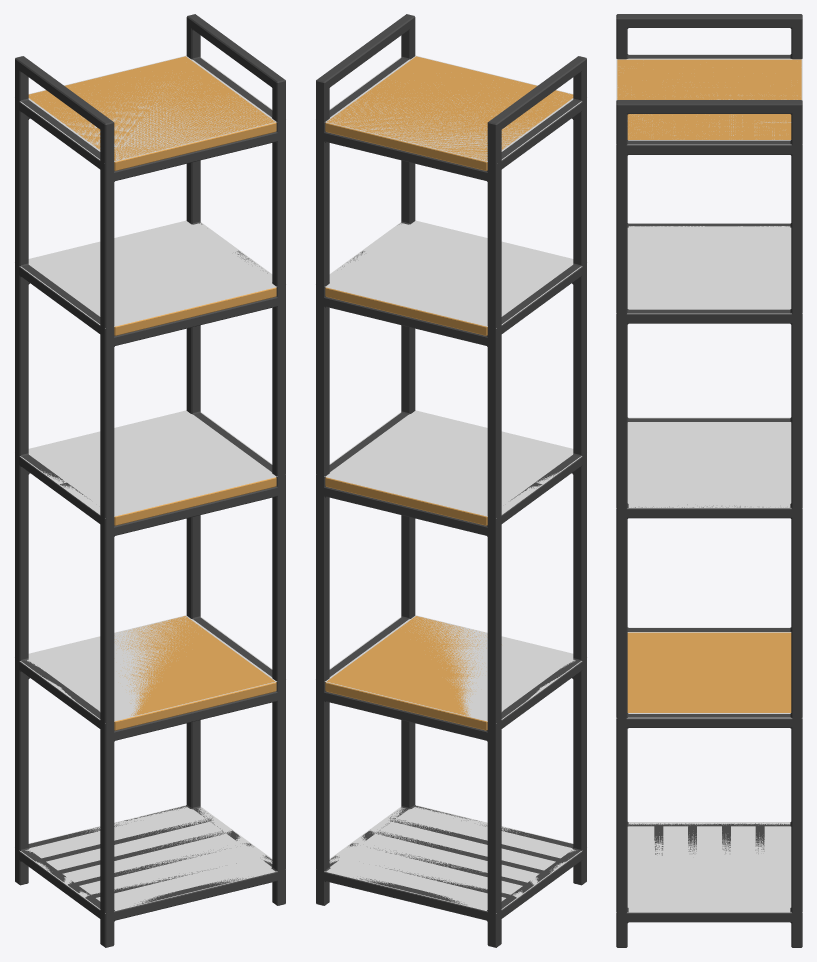
The model's file is iron-frame-shelf-v.glb.
3 renders of one model, left to right at view 1: azimuth 30°, elevation 25°; view 2: azimuth 150°, elevation 25°; view 3: azimuth 270°, elevation 25°, orthographic. The views are drawn at different scales.
Visible parts, largest first — view 1: Frame, Board.004, __TOP__Plane.002, __TOP__Plane.001, __TOP__Plane.004, Board, __TOP__Plane, __TOP__Plane.003, Board.002, Board.003; view 2: Frame, Board.004, __TOP__Plane.002, __TOP__Plane.001, __TOP__Plane.004, Board, __TOP__Plane, __TOP__Plane.003, Board.002, Board.003; view 3: Frame, __TOP__Plane.001, __TOP__Plane.004, __TOP__Plane.002, Board, Board.004, __TOP__Plane.003, __TOP__Plane.
Boxes of the visible parts, bbox=[...] form: Frame: bbox=[15, 14, 285, 947]; Board.004: bbox=[28, 56, 276, 170]; __TOP__Plane.002: bbox=[14, 220, 286, 328]; __TOP__Plane.001: bbox=[20, 410, 277, 518]; __TOP__Plane.004: bbox=[14, 805, 286, 913]; Board: bbox=[114, 616, 276, 730]; __TOP__Plane: bbox=[14, 615, 286, 723]; __TOP__Plane.003: bbox=[14, 55, 286, 161]; Board.002: bbox=[114, 477, 276, 525]; Board.003: bbox=[114, 287, 276, 335]; Frame: bbox=[316, 14, 586, 947]; Board.004: bbox=[325, 56, 573, 170]; __TOP__Plane.002: bbox=[315, 220, 587, 328]; __TOP__Plane.001: bbox=[324, 410, 581, 518]; __TOP__Plane.004: bbox=[315, 805, 587, 913]; Board: bbox=[325, 616, 487, 730]; __TOP__Plane: bbox=[315, 615, 587, 723]; __TOP__Plane.003: bbox=[315, 55, 587, 161]; Board.002: bbox=[325, 477, 487, 525]; Board.003: bbox=[325, 287, 487, 335]; Frame: bbox=[616, 14, 802, 947]; __TOP__Plane.001: bbox=[616, 417, 802, 508]; __TOP__Plane.004: bbox=[616, 822, 802, 912]; __TOP__Plane.002: bbox=[616, 223, 802, 313]; Board: bbox=[627, 632, 791, 712]; Board.004: bbox=[617, 59, 801, 139]; __TOP__Plane.003: bbox=[616, 54, 802, 144]; __TOP__Plane: bbox=[616, 627, 802, 718].
Bounding box in the file's own units: 0.38 × 1.65 × 0.33.
